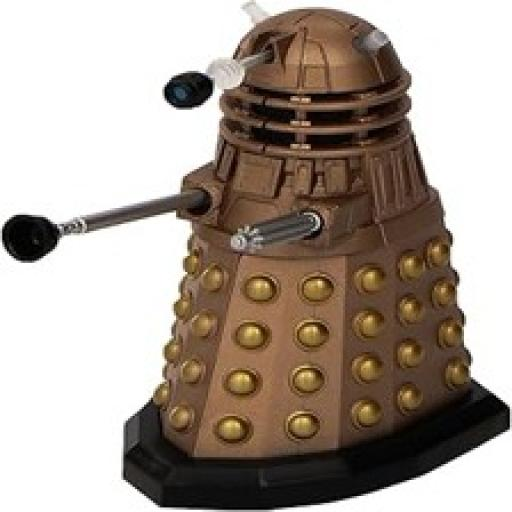dalek: (2, 3, 508, 512)
